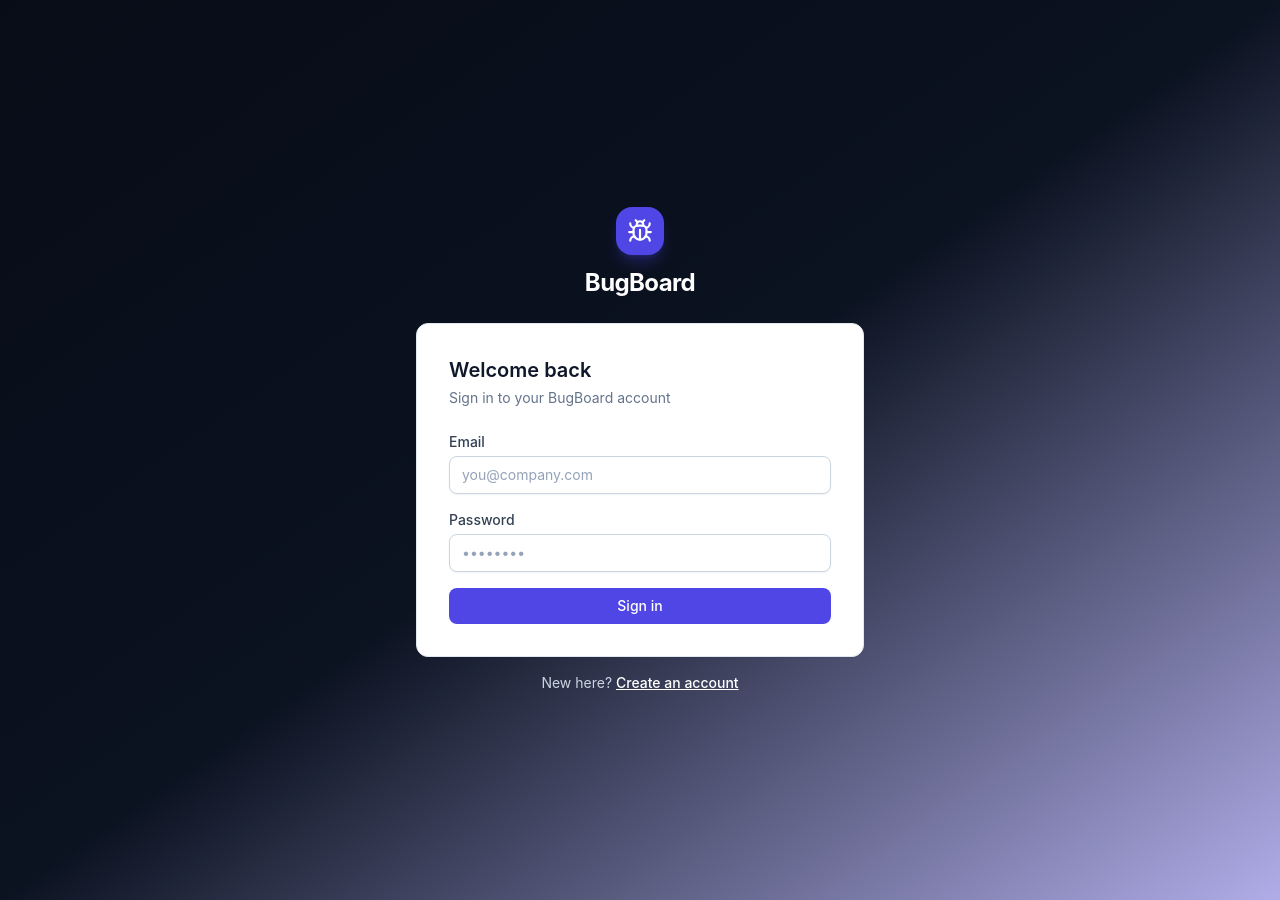
Test: login form › logs in, stores the token and lands on the dashboard
Type "dana@test.com" into the field labelled "Email" at (640, 475), box [449,456,831,494]
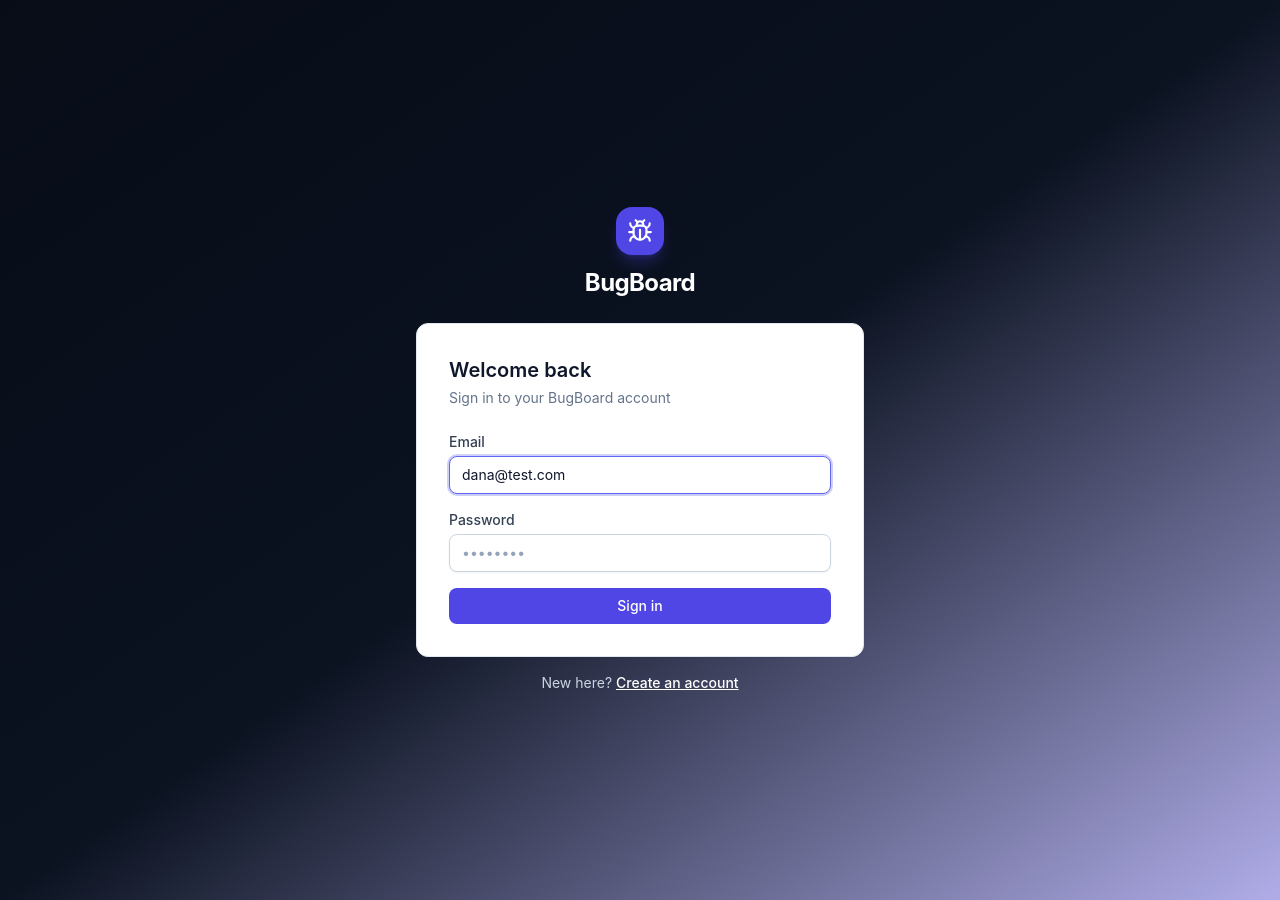
Type "Password123" into the password field labelled "Password" at (640, 553), box [449,534,831,572]
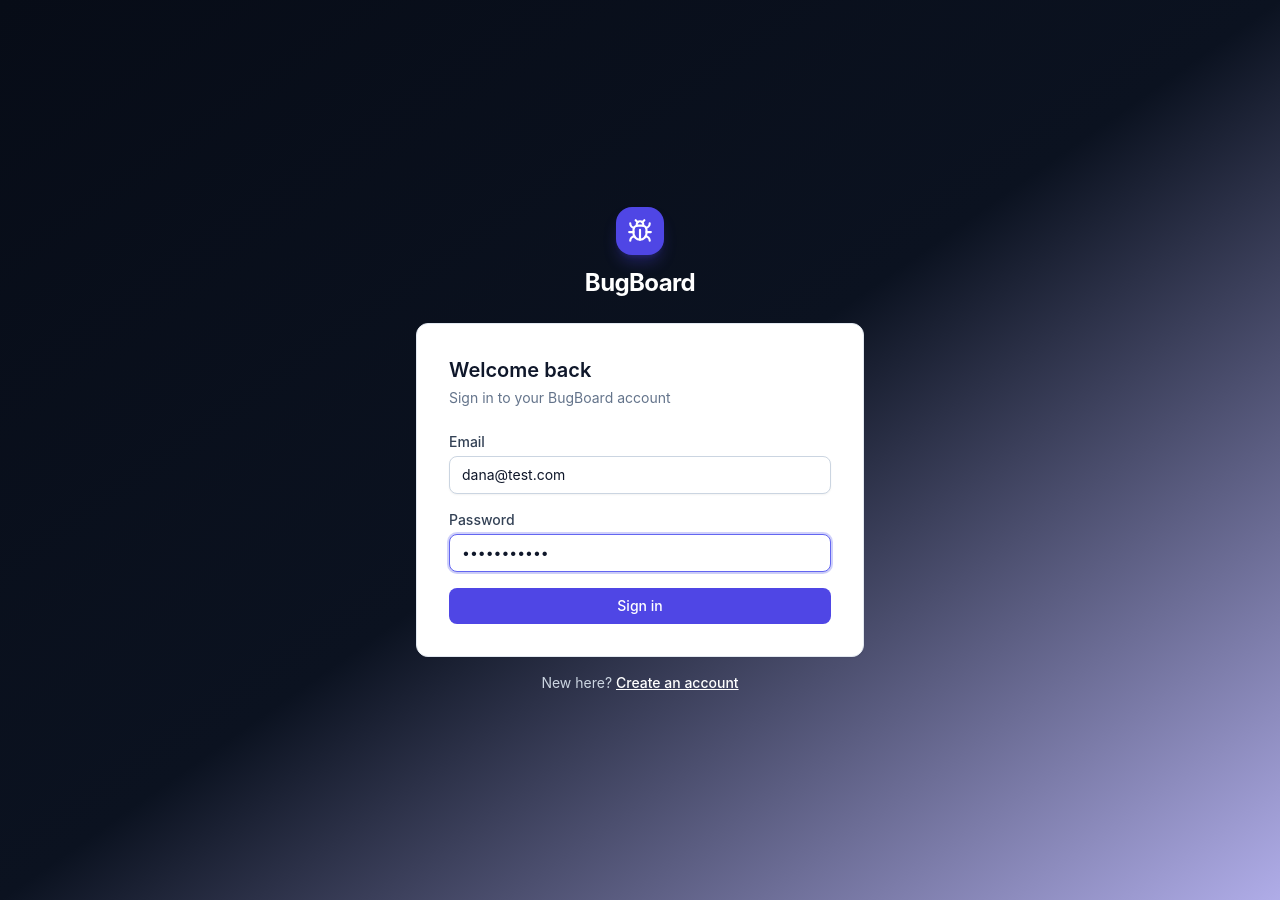
Click the button "Sign in" at (640, 606), box [449,588,831,624]
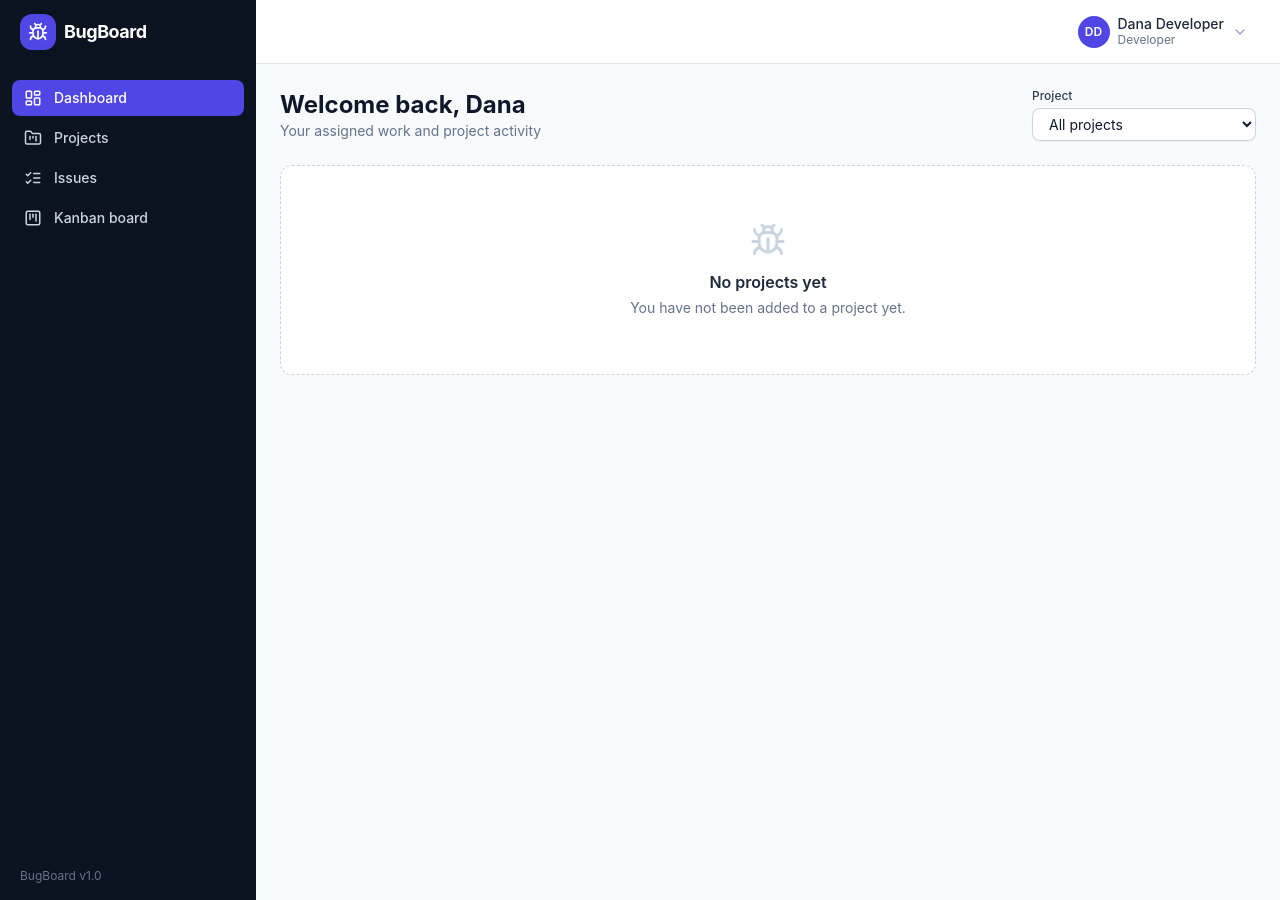
Now the heading "Welcome back, Dana" is shown, box [280,89,541,121]
